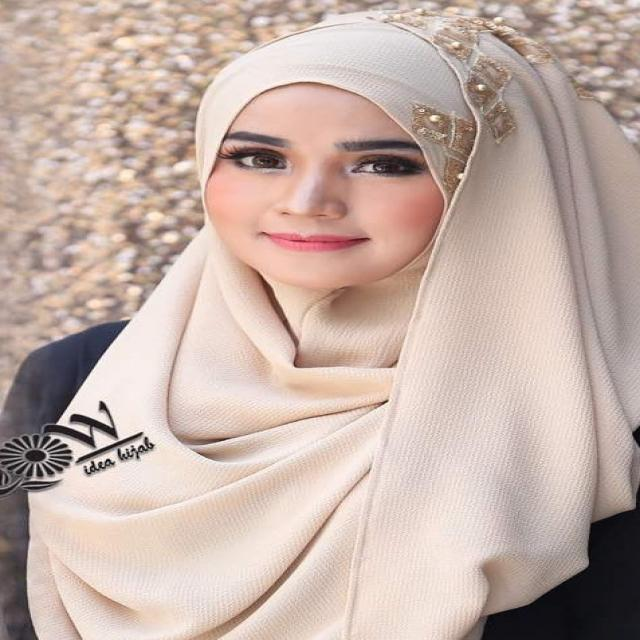head: (180, 6, 632, 296)
